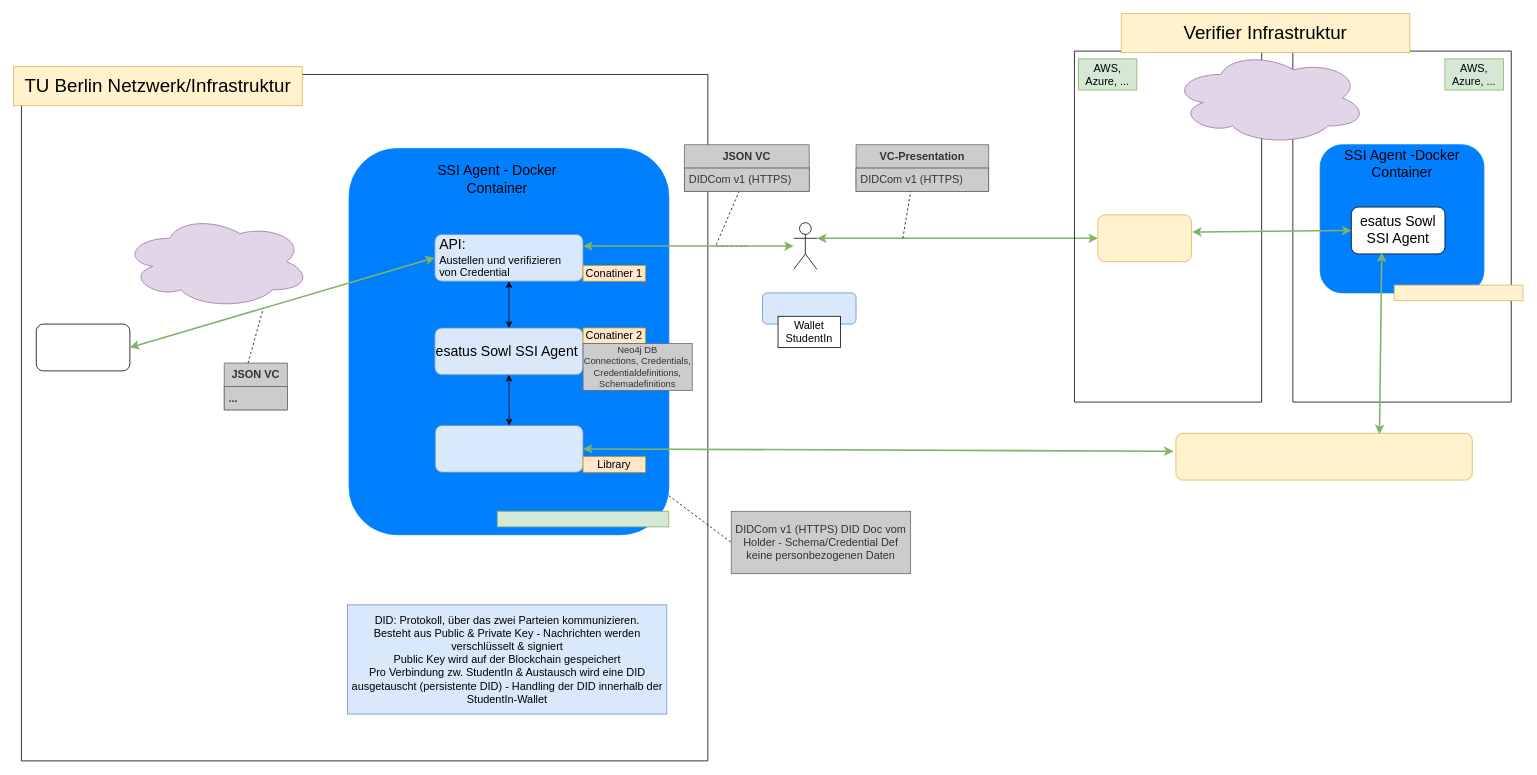
This 1537x775 diagram has some shape labels left out. The shapes that lost their labels are listed below. From the top down, each one's centre as x and y in pixels, then its label:
[1269,97]: Verifier agent entweder bei esatus gehostet oder auf Ogranisationssystem
[805,245]: Holder (Student)
[1144,238]: Organization
[216,261]: Indirekte Kommunikation mit Gateways über API
[809,308]: esatus Wallet
[1458,292]: Verifizierungskomponene
[82,347]: Moodle
[508,448]: Hyperledger Aries
[1323,456]: DLT/Blockchain Aries (Knotenbetrieb IDunion)
[582,519]: Wird von esatus bereitgestellt
